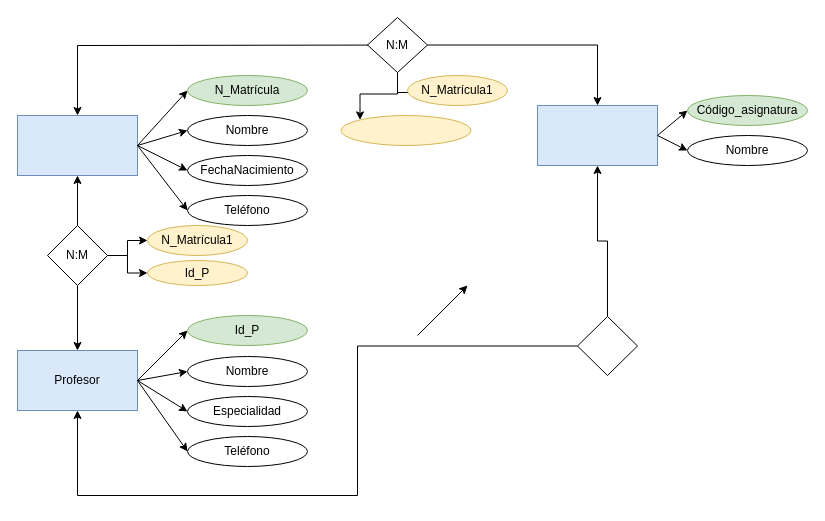
The diagram is 825 pixels wide and 521 high, and some of its shapes have lost their labels. The shapes that lost their labels are listed below. From the top down, each one's centre as x and y in pixels, then its label:
At pixel 77 145: "Alumno".
At pixel 405 130: "Código_asignatura1".
At pixel 597 135: "Asignatura".
At pixel 607 346: "1:N".
